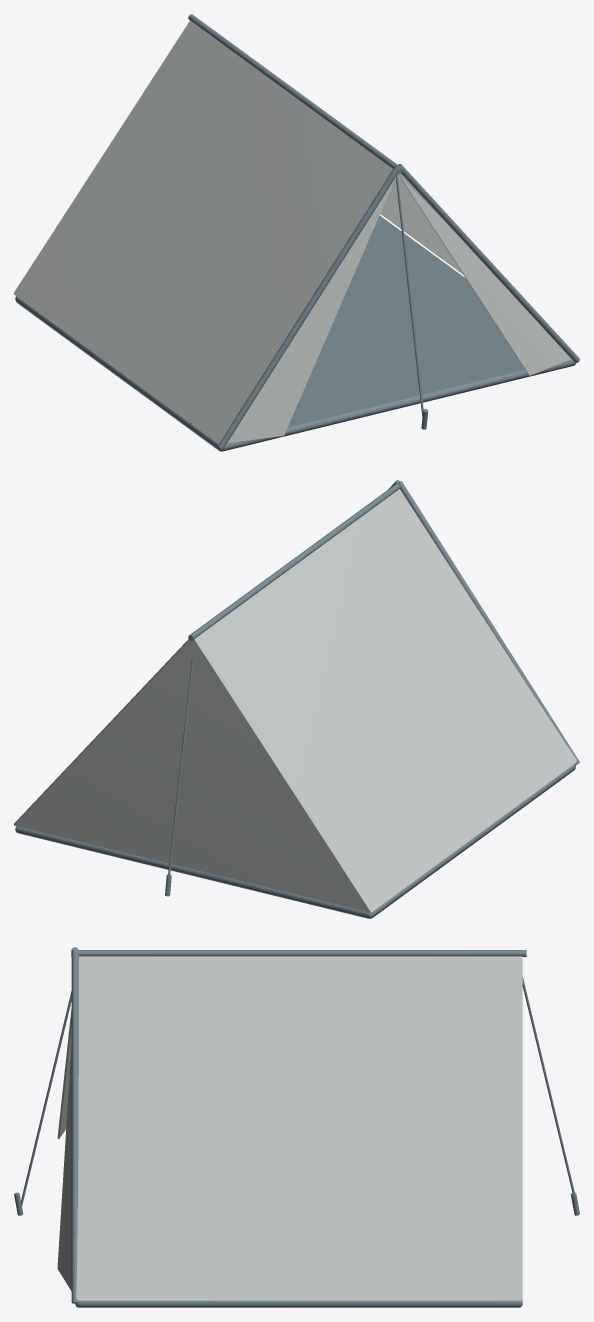
File: tent.glb
3 views of the same model, one above another, from view 1: azimuth 30°, elevation 25°; view 2: azimuth 150°, elevation 25°; view 3: azimuth 270°, elevation 25° (orthographic). The views are drawn at different scales.
Parts seen in each view (by area): view 1: canvas_-1, groundsheet, door_flap_-1, door_flap_1, canvas_1, front_pole_-1, front_pole_1, ridge_pole, guyline.001; view 2: canvas_-1, back_canvas, groundsheet, ridge_pole, front_pole_-1, guyline; view 3: canvas_1, groundsheet, ridge_pole, front_pole_1, door_flap_1, door_flap_-1, guyline, guyline.001.
Part boxes in pixels (left/top/right/bottom): canvas_-1: left=14, top=20, right=392, bottom=444; groundsheet: left=15, top=216, right=575, bottom=451; door_flap_-1: left=227, top=175, right=396, bottom=443; door_flap_1: left=398, top=174, right=571, bottom=375; canvas_1: left=380, top=173, right=462, bottom=274; front_pole_-1: left=218, top=164, right=400, bottom=449; front_pole_1: left=397, top=164, right=579, bottom=363; ridge_pole: left=188, top=14, right=403, bottom=173; guyline.001: left=396, top=174, right=423, bottom=416; canvas_-1: left=194, top=489, right=576, bottom=912; back_canvas: left=14, top=639, right=370, bottom=912; groundsheet: left=15, top=764, right=575, bottom=918; ridge_pole: left=188, top=484, right=399, bottom=640; front_pole_-1: left=397, top=481, right=579, bottom=765; guyline: left=168, top=658, right=193, bottom=875; canvas_1: left=76, top=956, right=522, bottom=1300; groundsheet: left=75, top=1300, right=522, bottom=1307; ridge_pole: left=71, top=950, right=526, bottom=956; front_pole_1: left=71, top=949, right=78, bottom=1303; door_flap_1: left=57, top=1045, right=71, bottom=1291; door_flap_-1: left=57, top=1008, right=71, bottom=1138; guyline: left=522, top=976, right=574, bottom=1193; guyline.001: left=21, top=991, right=71, bottom=1206.
Bounding box in the file's own units: 2.33 × 1.51 × 2.91.
